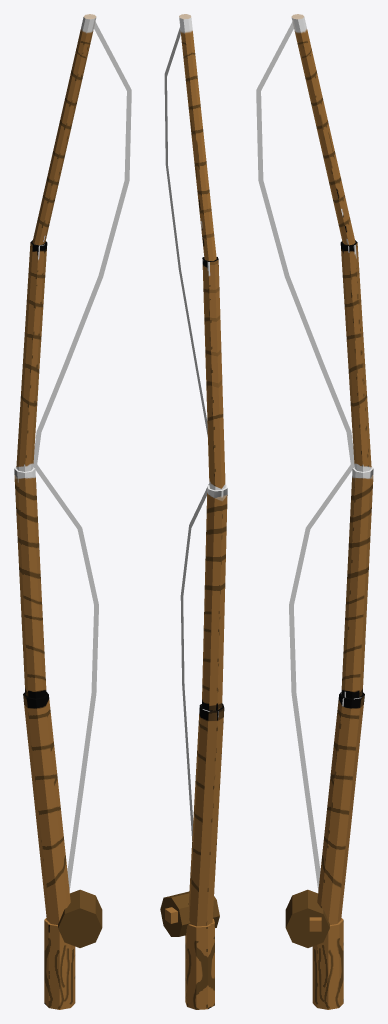
File: fishing_rod.glb
3 renders of one model, left to right at view 1: azimuth 90°, elevation 25°; view 2: azimuth 210°, elevation 25°; view 3: azimuth 270°, elevation 25°, orthographic.
Parts seen in each view (by area): view 1: Cylinder; view 2: Cylinder; view 3: Cylinder.
Part boxes in pixels (box(x1,y1,x2,y2)): Cylinder: box(14, 14, 131, 1009); Cylinder: box(160, 14, 227, 1009); Cylinder: box(256, 14, 373, 1009).
Size of the model in its own units: 0.2642 by 5.5 by 0.592.
Materials: 1 (1 with a texture image).
